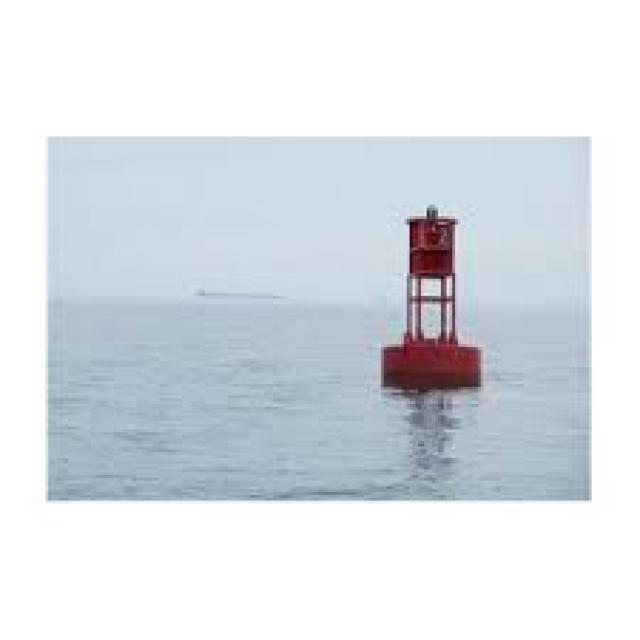2.1 lateral mark -P-: (368, 190, 500, 401)
